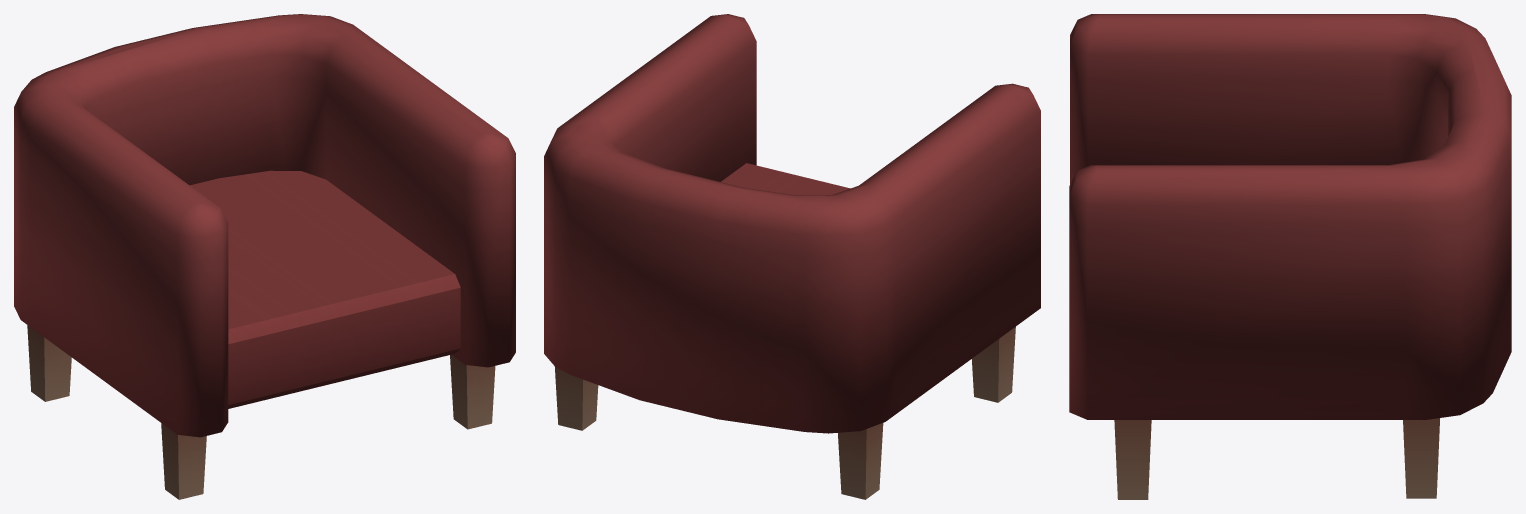
The model's file is arm4.glb.
The picture shows the model from 3 angles, left to right: view 1: azimuth 30°, elevation 25°; view 2: azimuth 150°, elevation 25°; view 3: azimuth 270°, elevation 25°; orthographic projection. The views are drawn at different scales.
Visible parts, largest first — view 1: Plane.002_1; view 2: Plane.002_1; view 3: Plane.002_1.
Part boxes in pixels (box(x1,y1,x2,y2)): Plane.002_1: box(14, 14, 515, 499); Plane.002_1: box(544, 14, 1040, 499); Plane.002_1: box(1069, 14, 1511, 499).
Size of the model in its own units: 4 by 3.39 by 4.21.
1 material, 1 textured.
